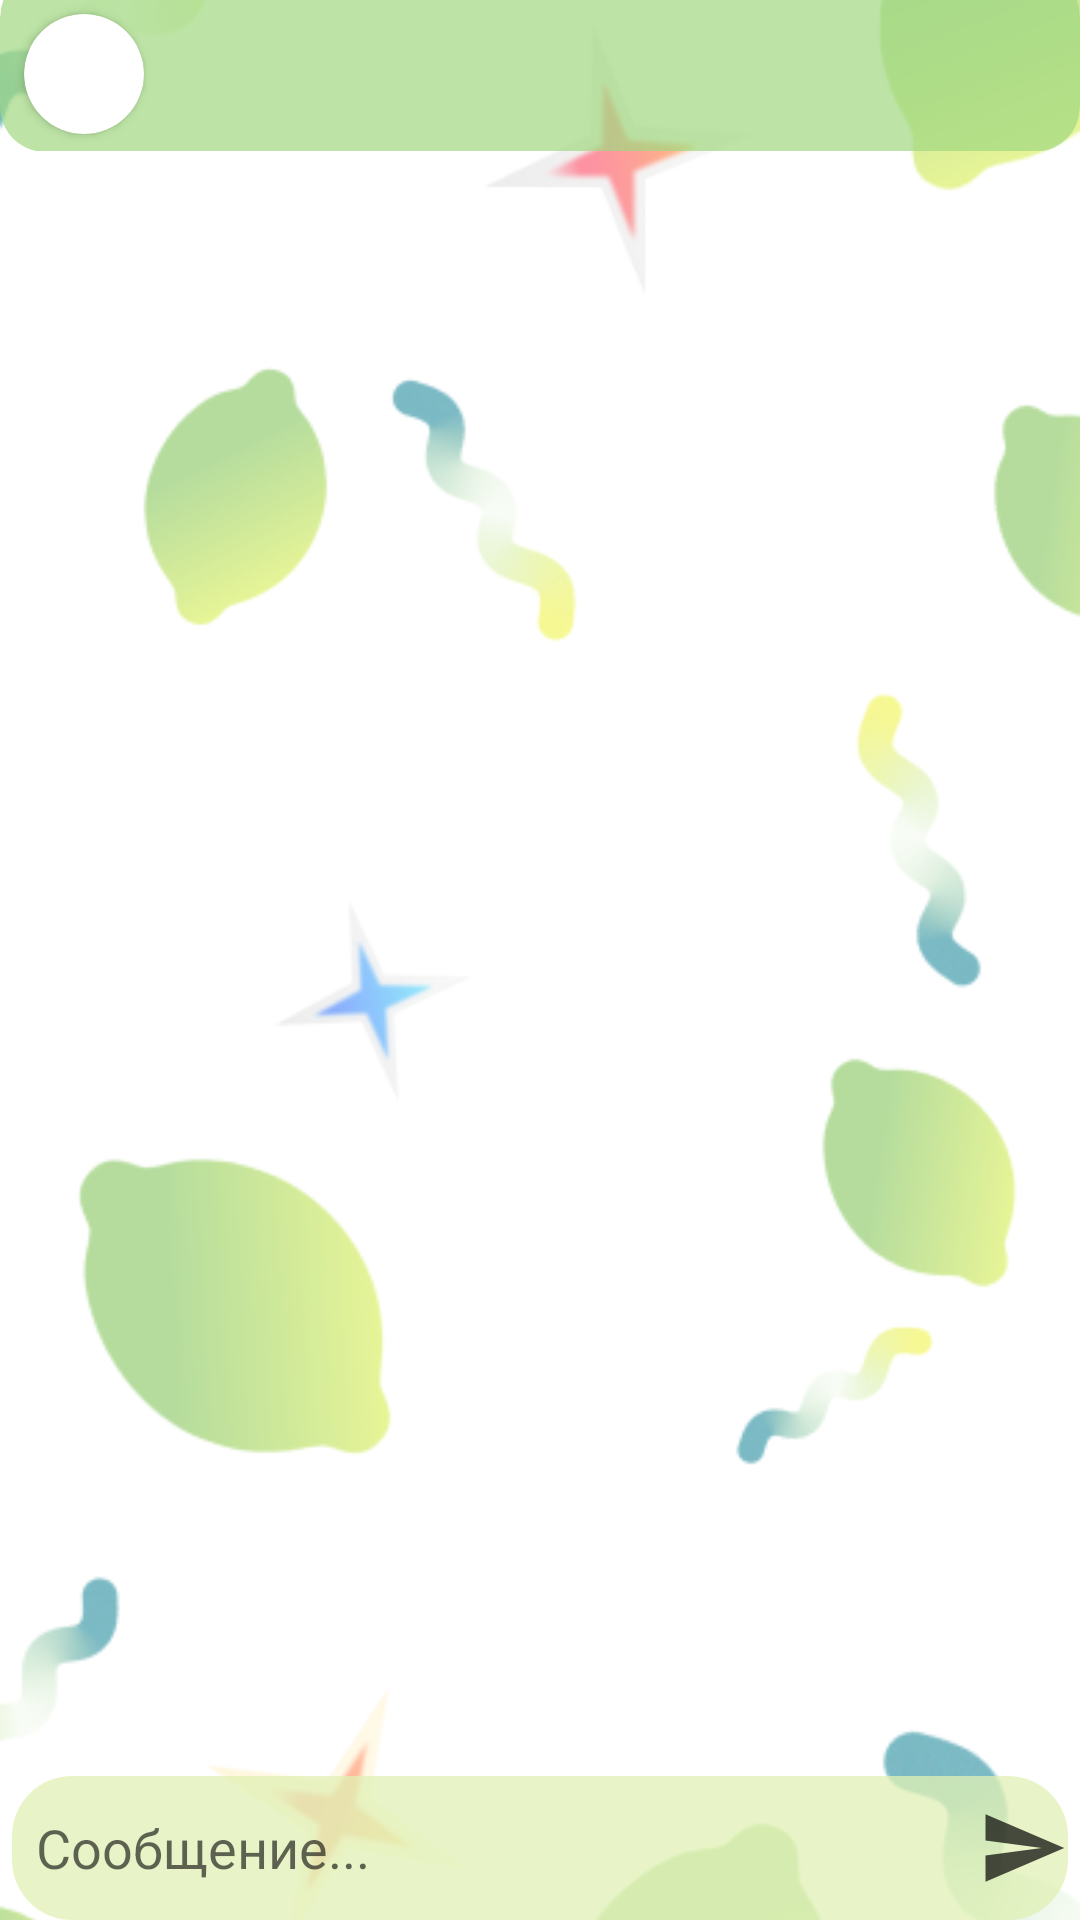

Icons on this 1080×1920 Android screen, each with the point to tap as point (x, y):
send: point (1023, 1848)
